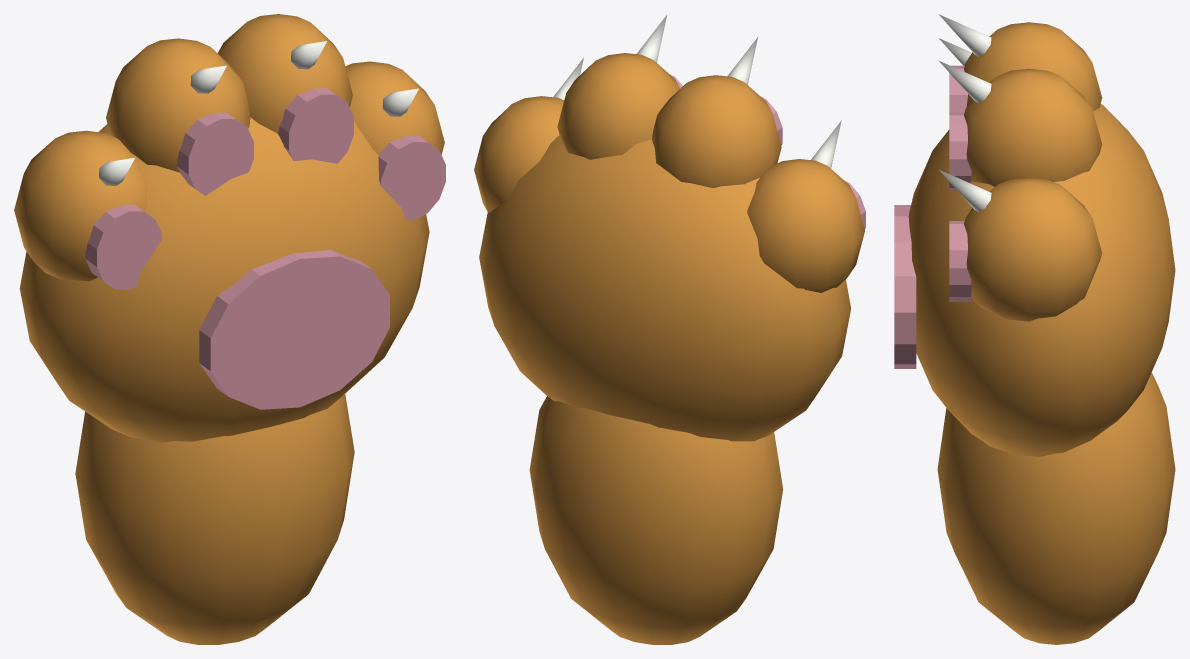
Rendered from paw_swipe.glb.
3 views of the same model, side by side, from view 1: azimuth 30°, elevation 25°; view 2: azimuth 150°, elevation 25°; view 3: azimuth 270°, elevation 25° (orthographic). The views are drawn at different scales.
Visible parts, largest first — view 1: paw_swipe; view 2: paw_swipe; view 3: paw_swipe.
Boxes of the visible parts, box(x1,y1,x2,y2) form: paw_swipe: box(14, 14, 445, 644); paw_swipe: box(474, 14, 865, 644); paw_swipe: box(894, 14, 1175, 644).
Bounding box in the file's own units: 0.49 × 0.7211 × 0.307.
